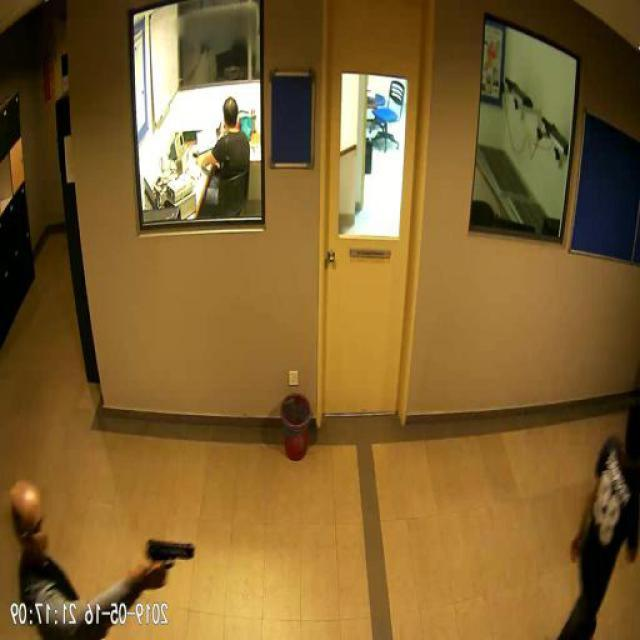weapon: (140, 536, 200, 593)
